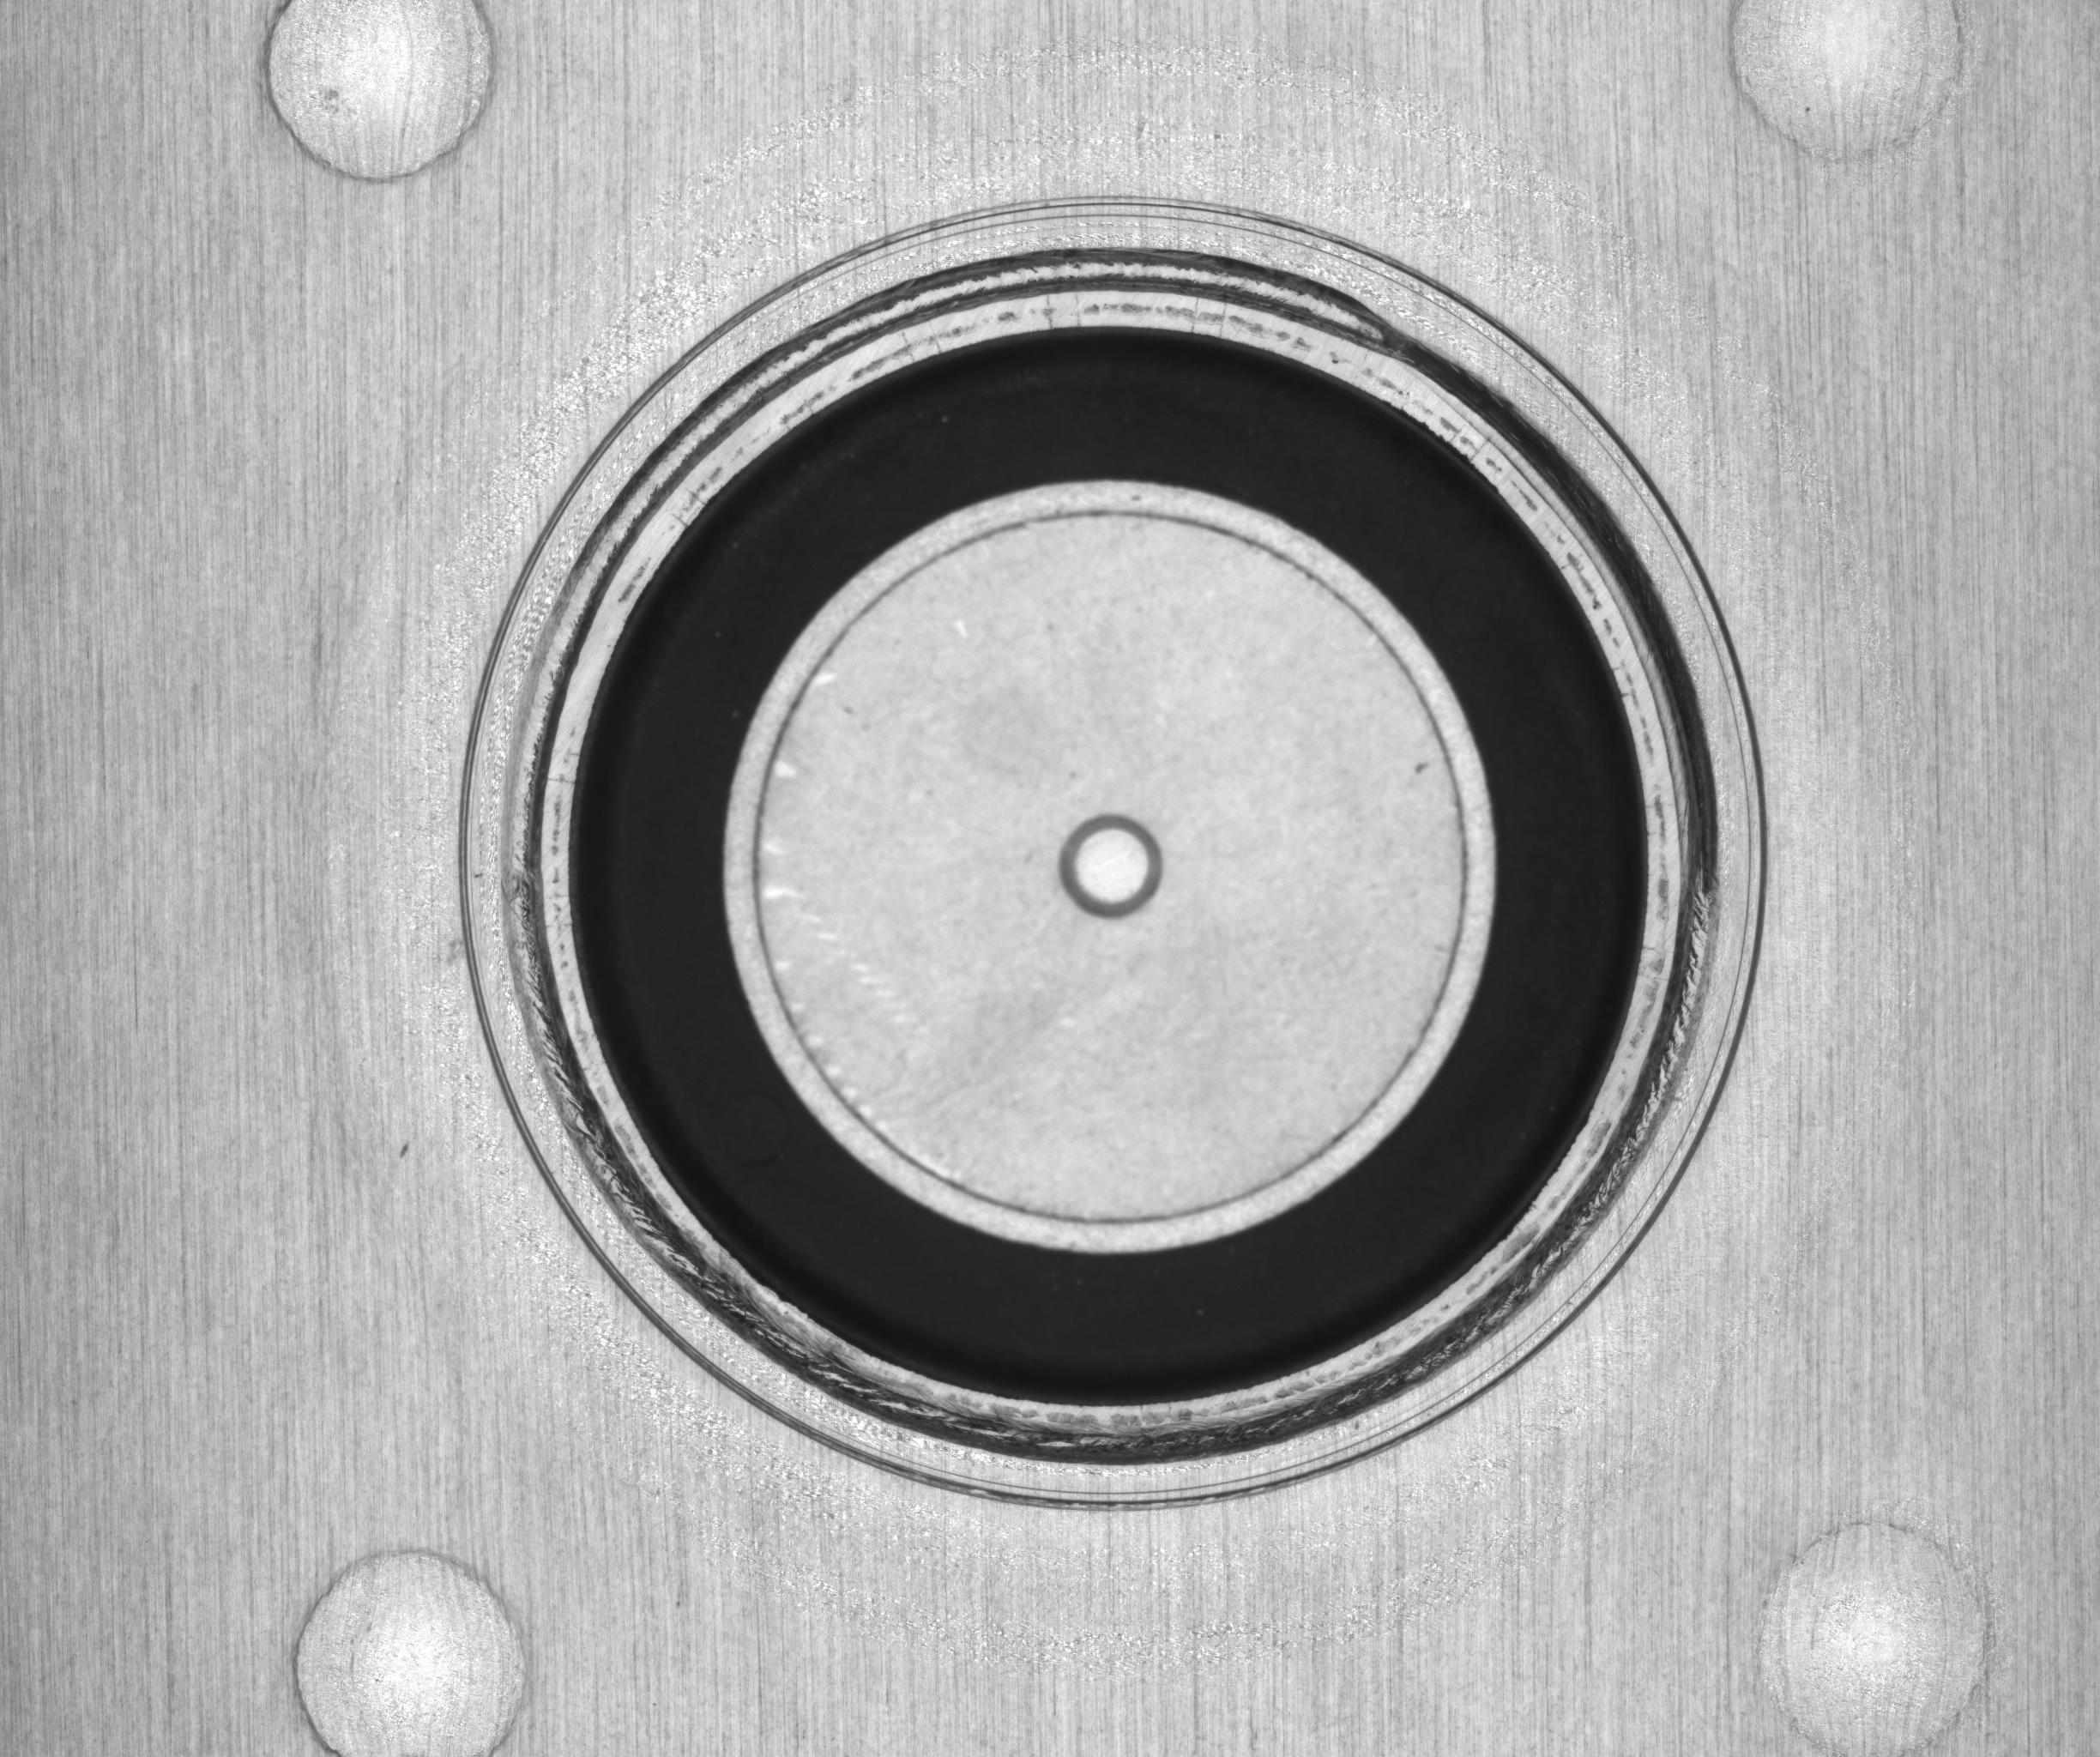lackofweld: (1376, 305, 1770, 923)
